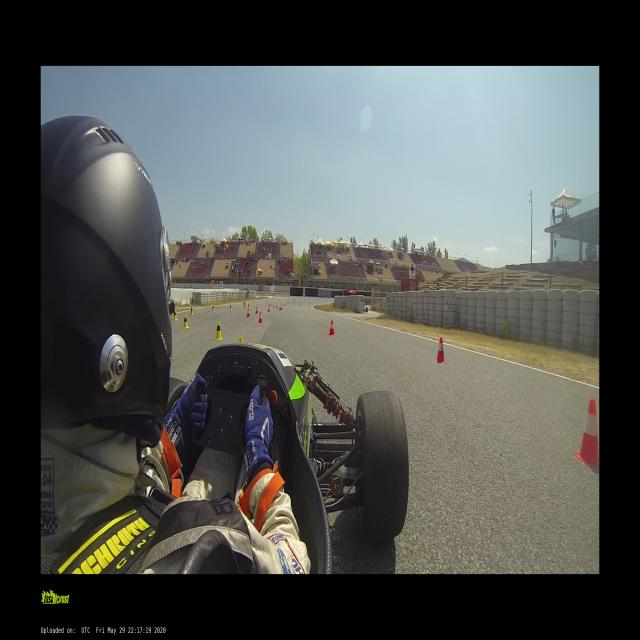orange_cone: (573, 397, 599, 473), (435, 337, 446, 364), (329, 320, 335, 335), (258, 312, 262, 324), (247, 308, 250, 316), (255, 307, 258, 313), (268, 305, 270, 311), (281, 304, 282, 309), (280, 305, 280, 311)
yellow_cone: (215, 320, 223, 340), (183, 314, 188, 328), (174, 310, 177, 321), (190, 307, 193, 315), (212, 305, 215, 312), (238, 337, 242, 342), (229, 304, 232, 310), (244, 304, 246, 309), (248, 303, 250, 308), (243, 301, 244, 305)
